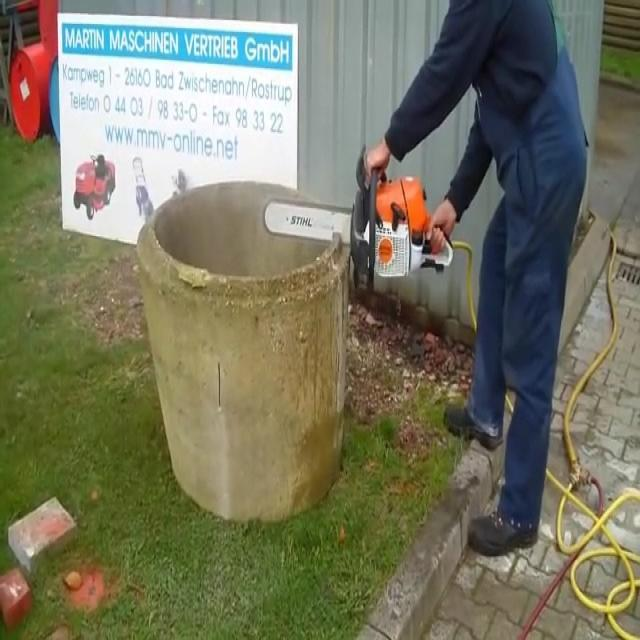Chainsaw: (253, 128, 470, 284)
